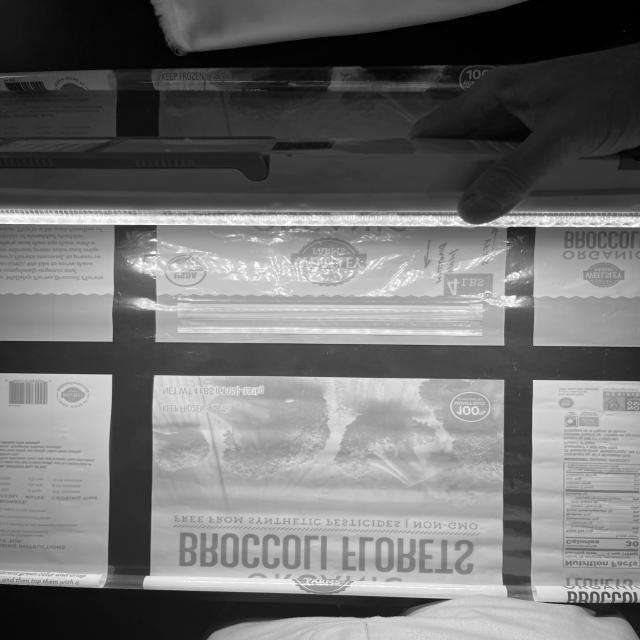zip_l: (176, 294, 484, 337)
